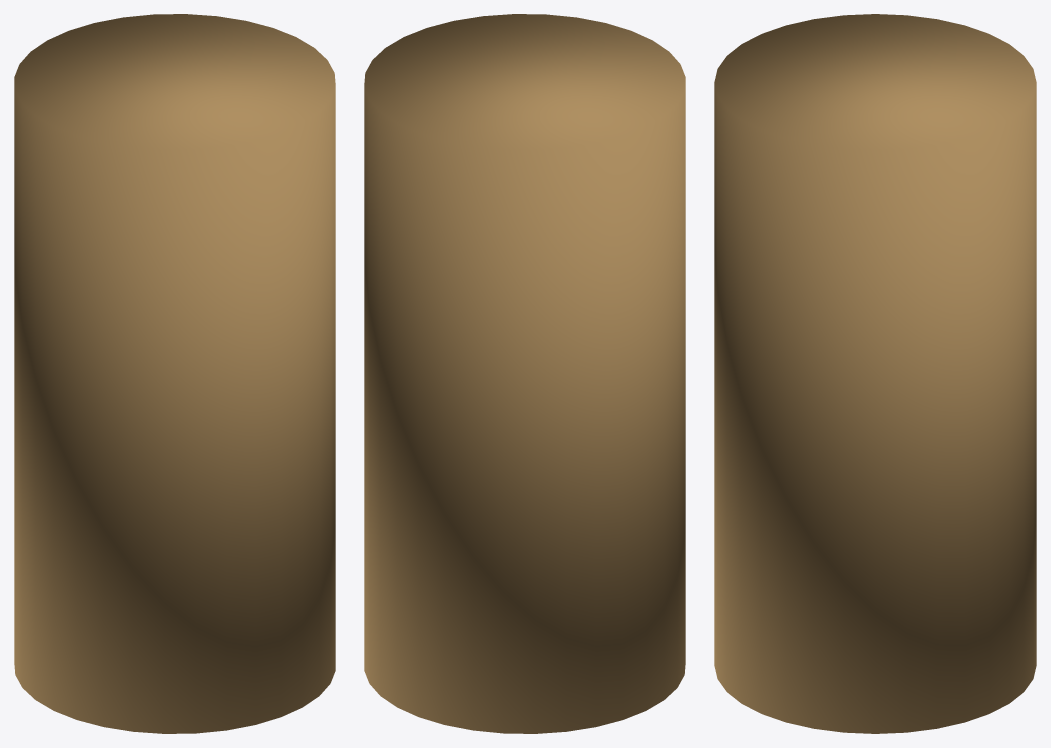
The model's file is wood.glb.
3 views of the same model, side by side, from view 1: azimuth 30°, elevation 25°; view 2: azimuth 150°, elevation 25°; view 3: azimuth 270°, elevation 25° (orthographic).
Visible parts, largest first — view 1: Cylinder; view 2: Cylinder; view 3: Cylinder.
Boxes of the visible parts, x1,y1,x2,y2 form: Cylinder: (14, 14, 335, 733); Cylinder: (364, 14, 685, 733); Cylinder: (714, 14, 1036, 733).
Bounding box in the file's own units: 0.16 × 0.32 × 0.16.
